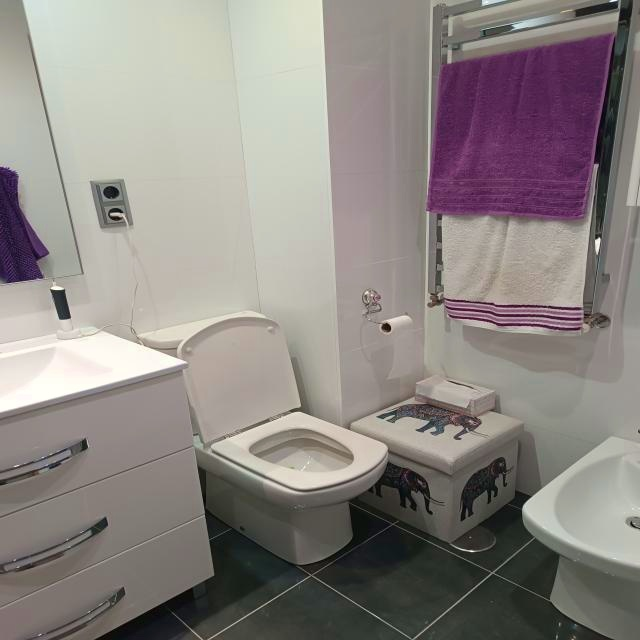cabinet: (0, 381, 215, 640)
table: (138, 311, 388, 568)
wardrobe: (0, 327, 188, 420)
